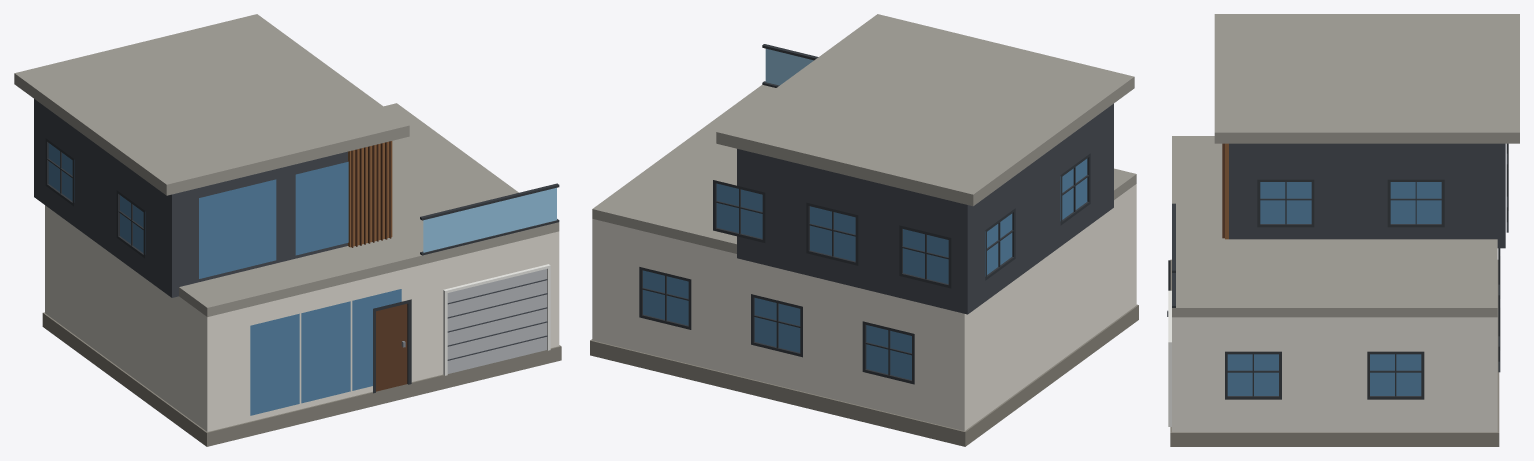
File: casa-moderna.glb
3 views of the same model, side by side, from view 1: azimuth 30°, elevation 25°; view 2: azimuth 150°, elevation 25°; view 3: azimuth 270°, elevation 25° (orthographic). The views are drawn at different scales.
Parts seen in each view (by area): view 1: Paredes, Telhado, Vidro, Portas, VidroLuz, Molduras, Detalhes; view 2: Paredes, Telhado, VidroLuz, Molduras, Vidro; view 3: Telhado, Paredes, VidroLuz, Molduras, Vidro, Detalhes.
Part boxes in pixels (bbox=[...]): Paredes: bbox=[34, 99, 561, 446]; Telhado: bbox=[14, 14, 559, 316]; Vidro: bbox=[48, 143, 556, 403]; Portas: bbox=[376, 269, 546, 391]; VidroLuz: bbox=[120, 161, 348, 415]; Molduras: bbox=[45, 138, 559, 393]; Detalhes: bbox=[348, 141, 405, 347]; Paredes: bbox=[590, 103, 1138, 446]; Telhado: bbox=[592, 14, 1136, 253]; VidroLuz: bbox=[643, 158, 1087, 379]; Molduras: bbox=[639, 44, 1090, 384]; Vidro: bbox=[754, 48, 1012, 352]; Telhado: bbox=[1172, 14, 1519, 317]; Paredes: bbox=[1170, 143, 1505, 446]; VidroLuz: bbox=[1227, 182, 1441, 395]; Molduras: bbox=[1168, 143, 1508, 426]; Vidro: bbox=[1260, 182, 1311, 223]; Detalhes: bbox=[1167, 143, 1228, 316].
Size of the model in its own units: 10.62 by 6.8 by 8.67.
